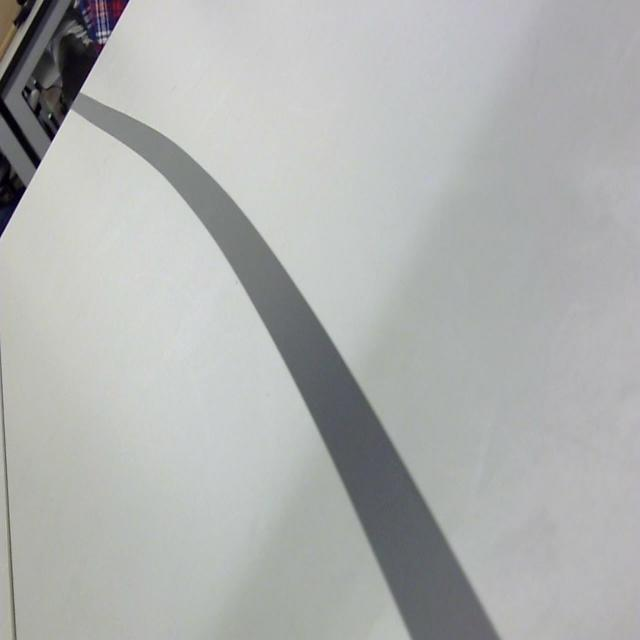tape: (69, 87, 504, 640)
